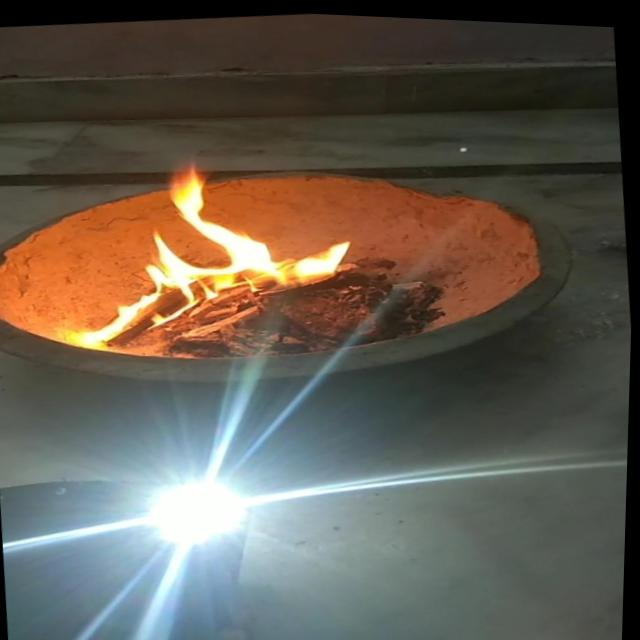fire: (66, 143, 380, 353)
